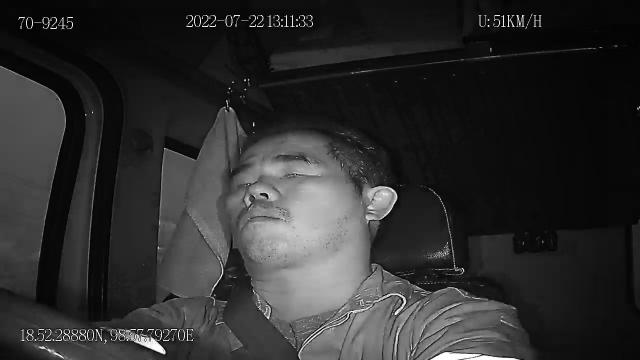Seatbelt: (222, 288, 302, 360)
